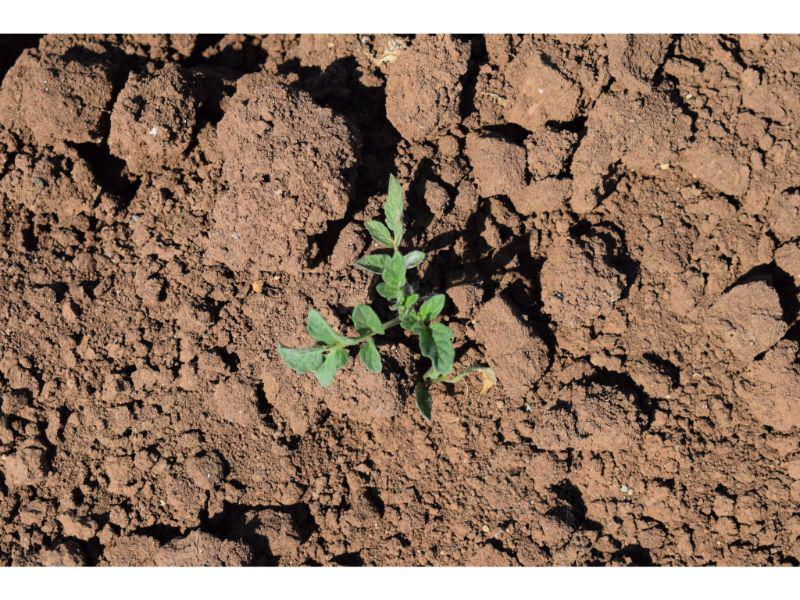tomato: (279, 170, 460, 384)
